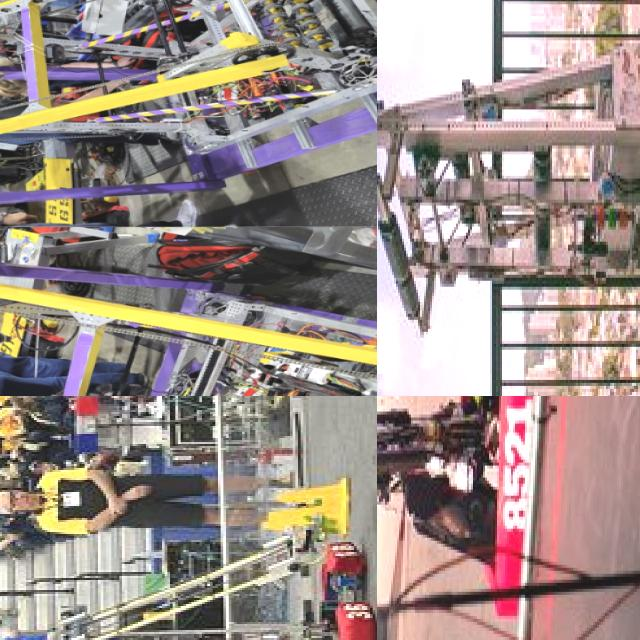FRC-Robots: (377, 0, 640, 396), (0, 0, 377, 170), (0, 226, 377, 396), (27, 525, 375, 640), (377, 396, 547, 603)
